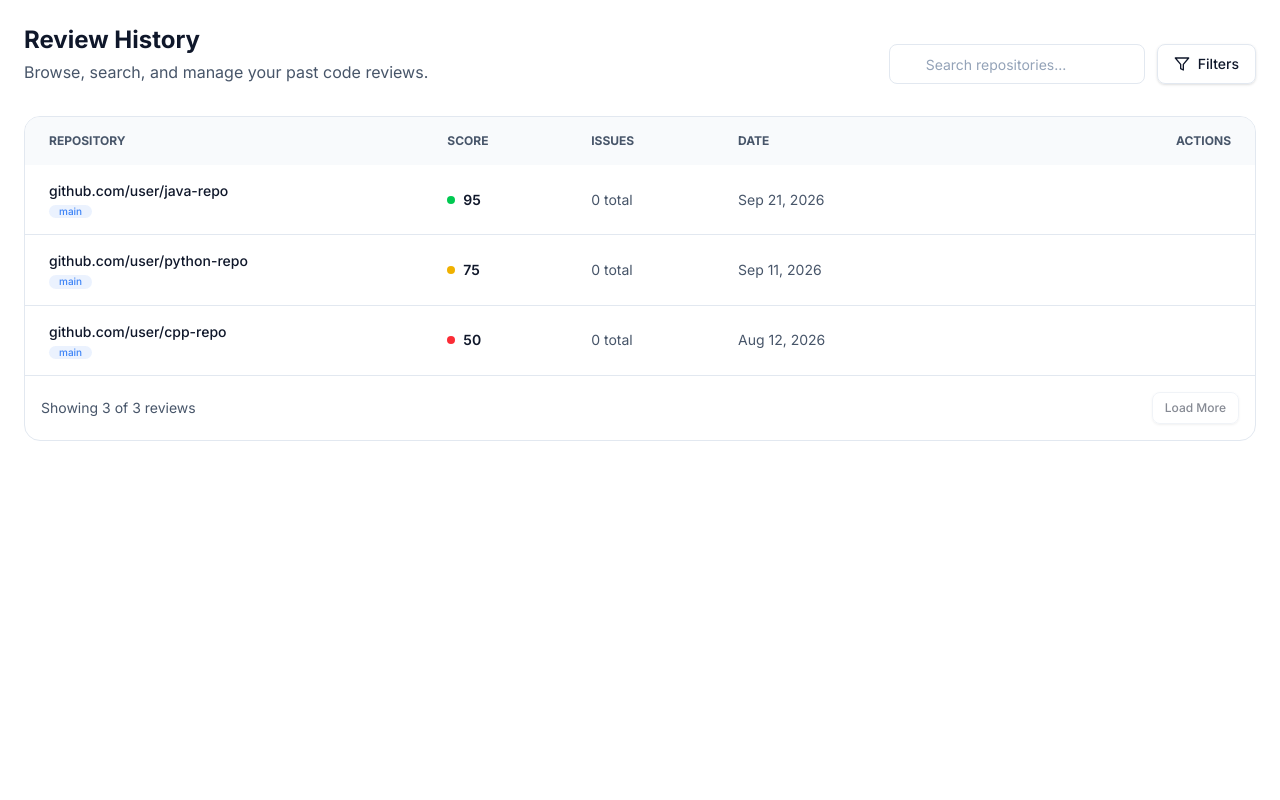
HistoryPage Filters › Language filter works
Expected: the link "github.com/user/java-repo" is shown, [49,182,228,199]
Click the button "Filters": coordinates (1206, 64) [1157,44,1256,84]
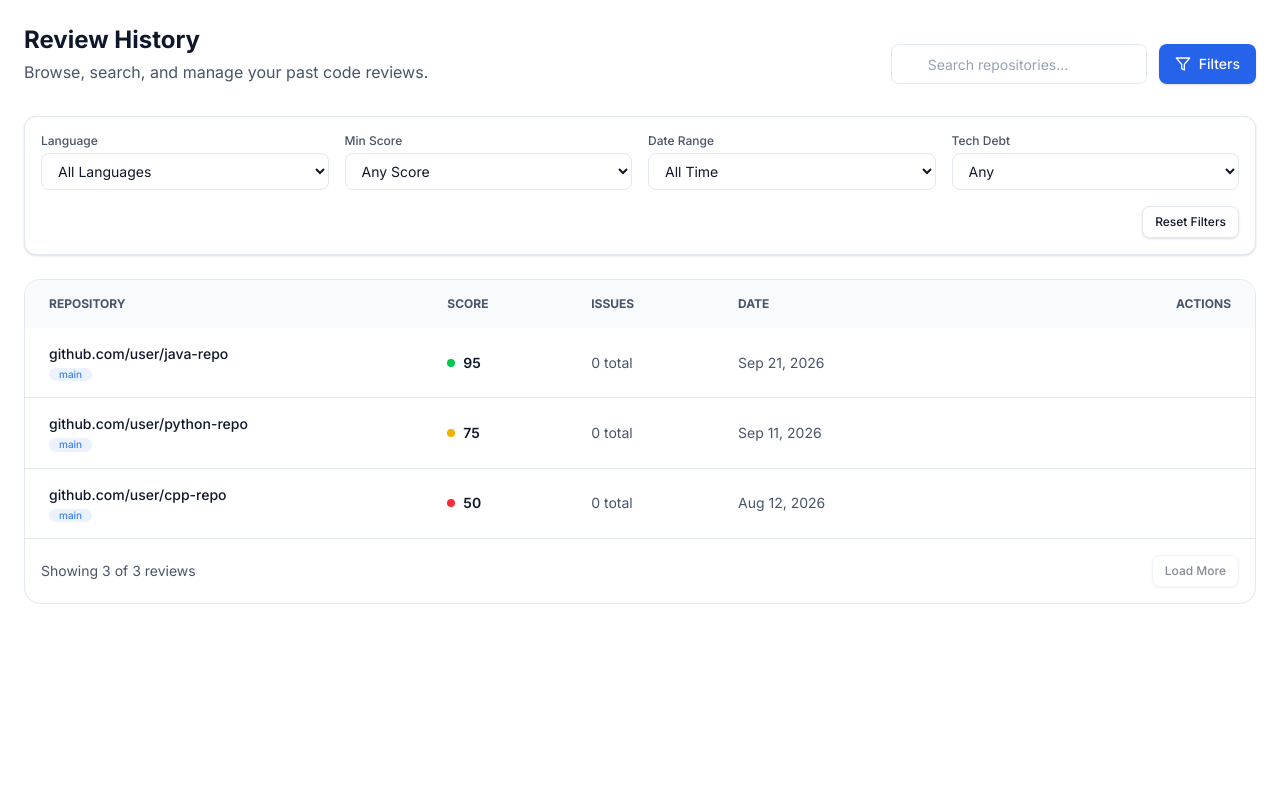
Select "Java" in the dropdown labelled "Language": coordinates (185, 172) [41,153,328,190]
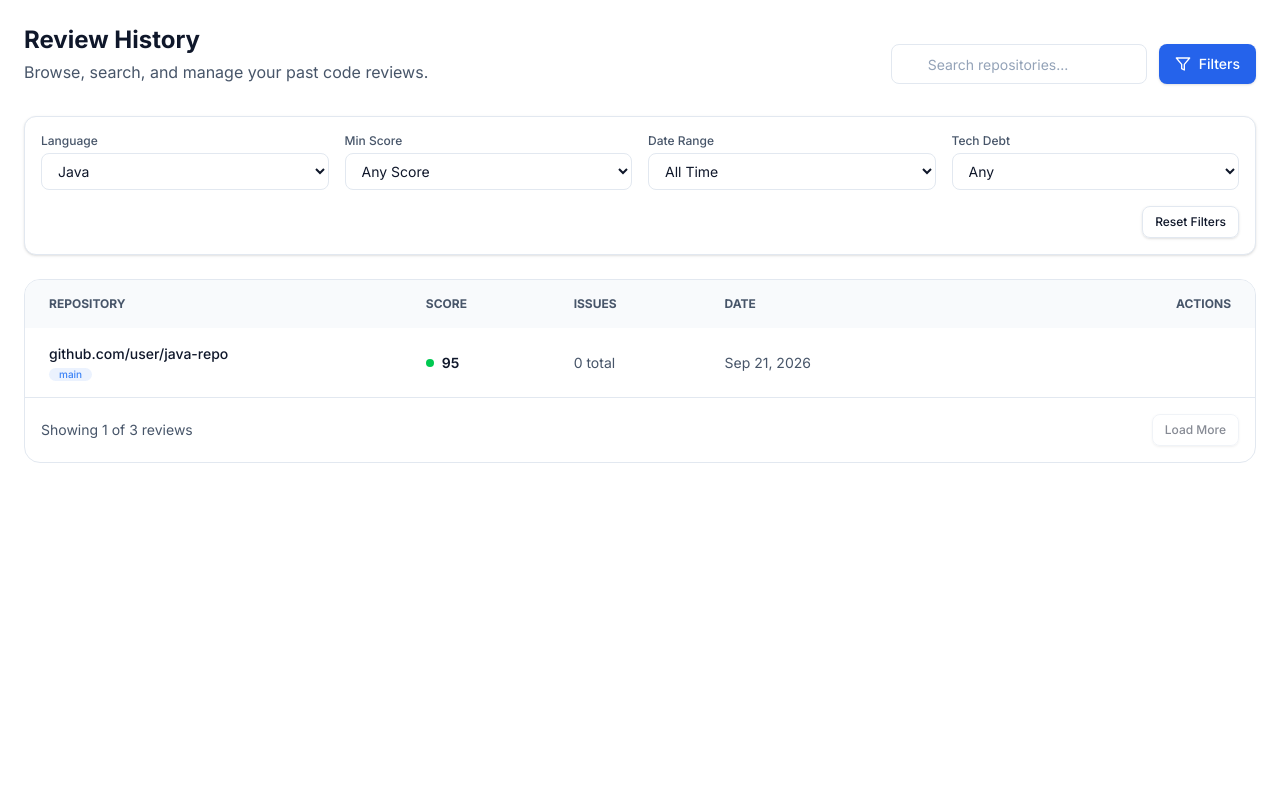
Expected: the link "github.com/user/java-repo" is shown, [49,345,228,362]
Expected: the link "github.com/user/python-repo" is gone
